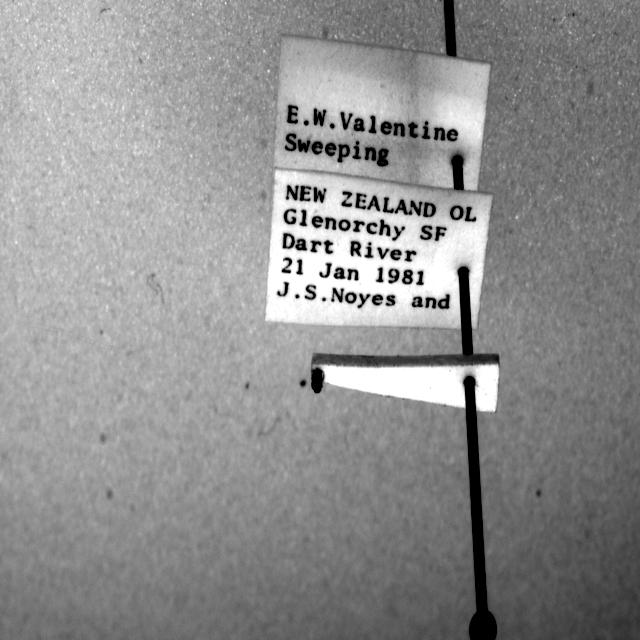typed_label: (266, 169, 492, 328), (274, 36, 491, 191)
